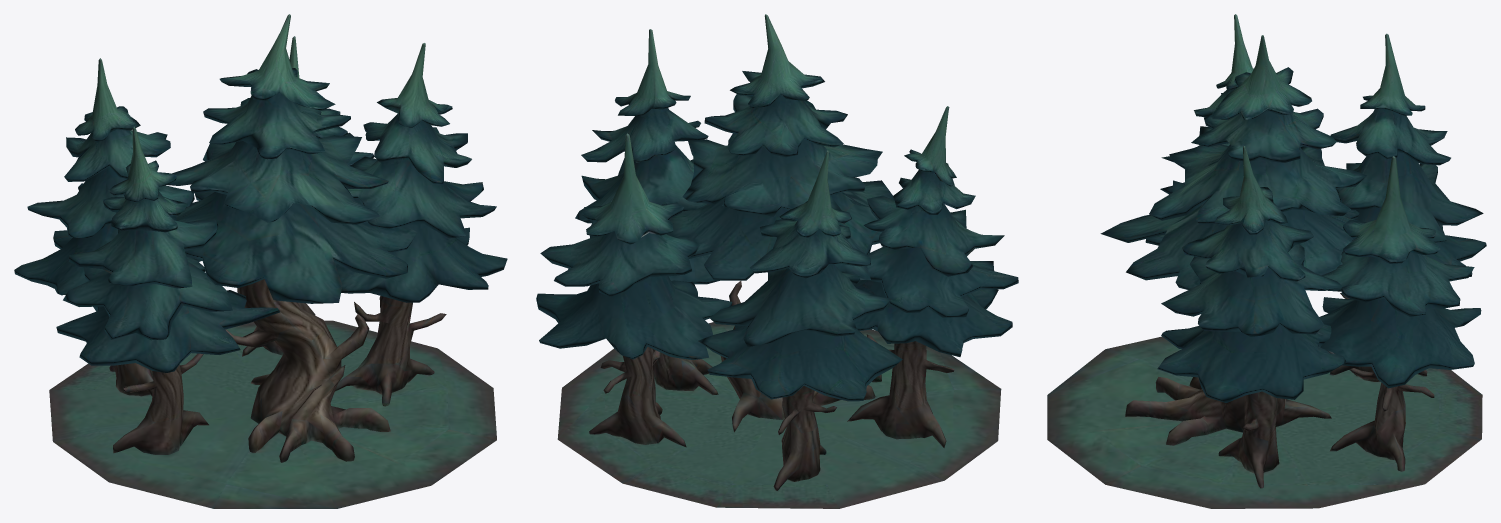
File: pinegrove.glb
3 renders of one model, left to right at view 1: azimuth 30°, elevation 25°; view 2: azimuth 150°, elevation 25°; view 3: azimuth 270°, elevation 25°, orthographic. The views are drawn at different scales.
Size of the model in its own units: 1 by 0.9181 by 0.9314.
Materials: 1 (1 with a texture image).
